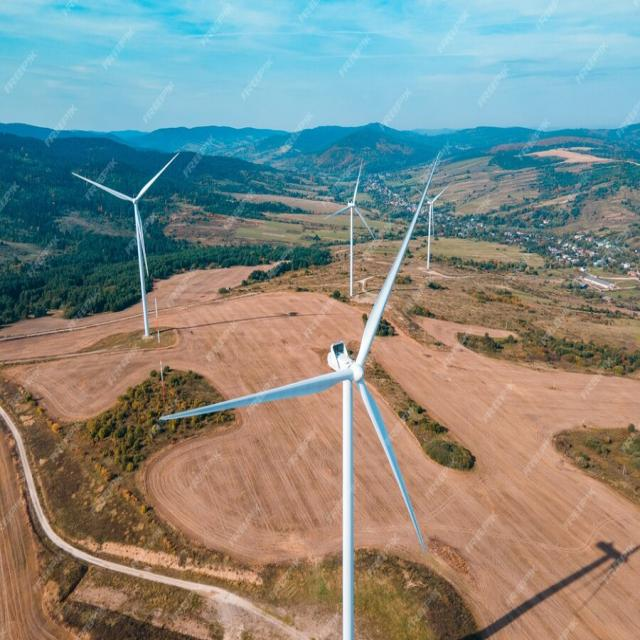solid-blade: (356, 155, 439, 366), (356, 378, 425, 551), (160, 368, 352, 419), (136, 153, 179, 201), (72, 173, 131, 201)
wind-turbine: (159, 152, 441, 639), (73, 153, 179, 338), (329, 160, 375, 296)
